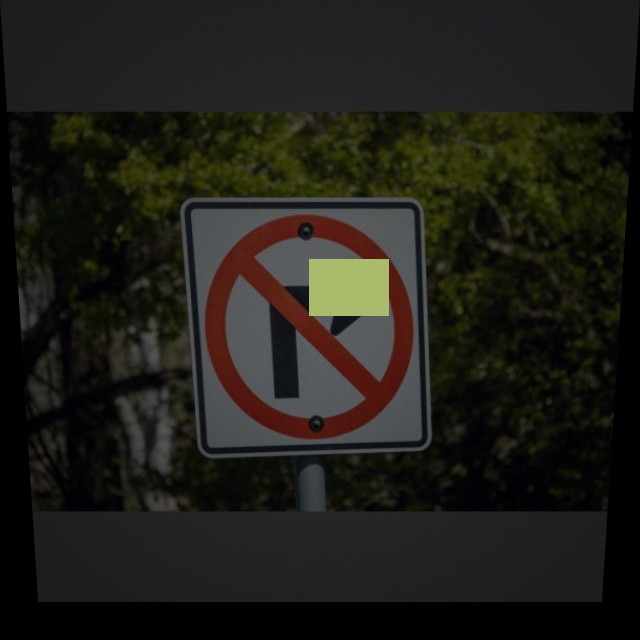Right_Turn_Prohibited: (198, 214, 424, 440)
